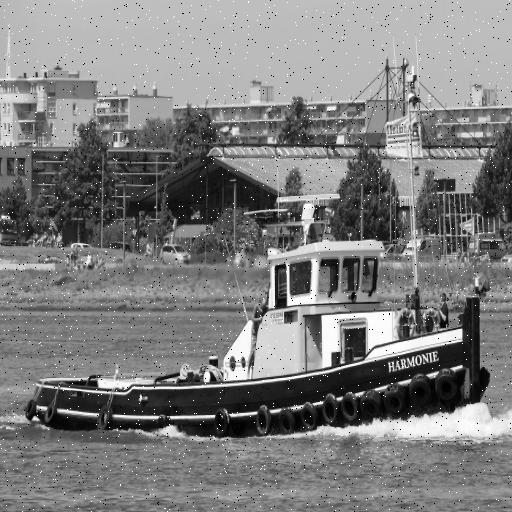tugboat: (25, 190, 498, 450)
